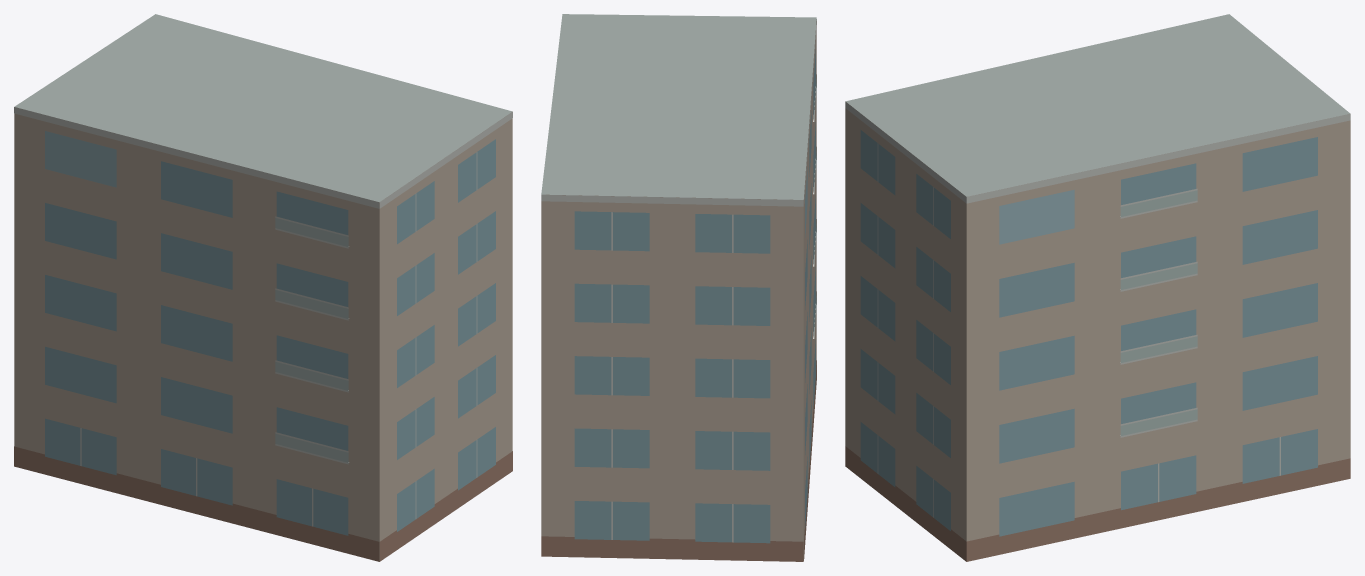
Rendered from survey-upis-32885855.glb.
The picture shows the model from 3 angles, left to right: view 1: azimuth 30°, elevation 25°; view 2: azimuth 150°, elevation 25°; view 3: azimuth 270°, elevation 25°; orthographic projection.
Parts seen in each view (by area): view 1: survey-upis-32885855.tmp; view 2: survey-upis-32885855.tmp; view 3: survey-upis-32885855.tmp.
Boxes of the visible parts, x1,y1,x2,y2 form: survey-upis-32885855.tmp: (14,14,512,561); survey-upis-32885855.tmp: (541,14,816,561); survey-upis-32885855.tmp: (845,14,1350,561).
Size of the model in its own units: 14.19 by 13.2 by 16.57.
